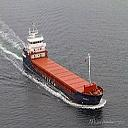Ships: (18, 23, 104, 110)
